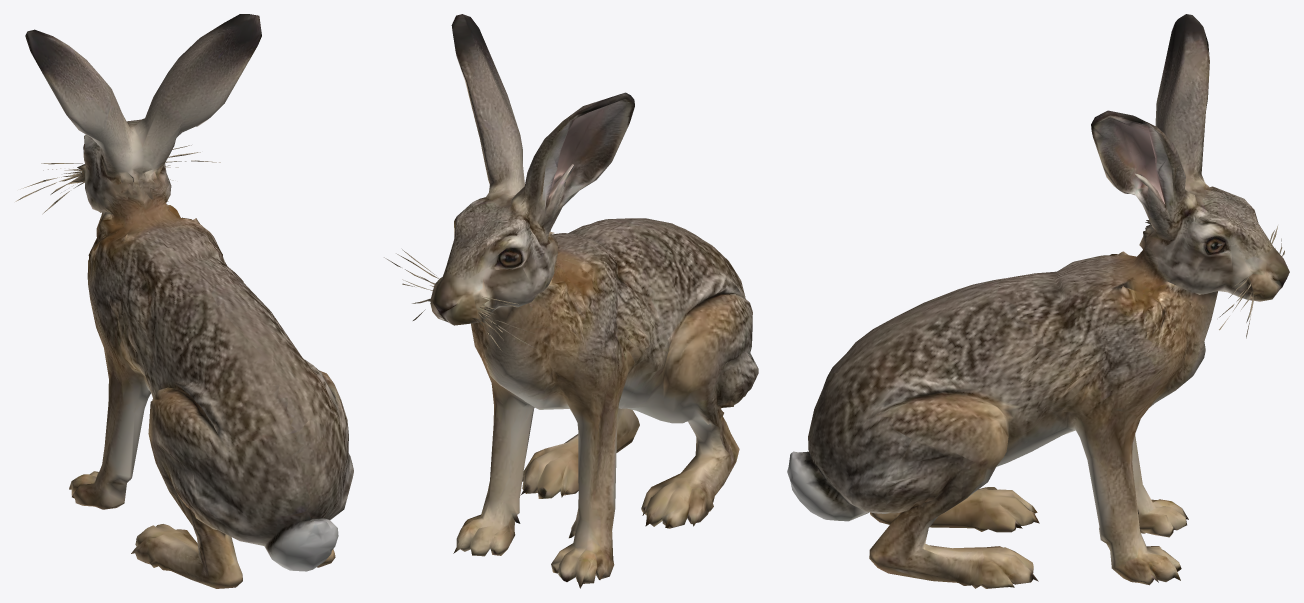
Rendered from rabbit.glb.
3 views of the same model, side by side, from view 1: azimuth 30°, elevation 25°; view 2: azimuth 150°, elevation 25°; view 3: azimuth 270°, elevation 25° (orthographic). The views are drawn at different scales.
Visible parts, largest first — view 1: tripo_node_fc6338e8-4774-409b-936a-00a2b3cdaa40; view 2: tripo_node_fc6338e8-4774-409b-936a-00a2b3cdaa40; view 3: tripo_node_fc6338e8-4774-409b-936a-00a2b3cdaa40.
Boxes of the visible parts, x1,y1,x2,y2 form: tripo_node_fc6338e8-4774-409b-936a-00a2b3cdaa40: (15,14,353,588); tripo_node_fc6338e8-4774-409b-936a-00a2b3cdaa40: (384,14,758,588); tripo_node_fc6338e8-4774-409b-936a-00a2b3cdaa40: (787,14,1289,588).
Bounding box in the file's own units: 0.4789 × 1 × 0.9371.
1 material, 1 textured.
